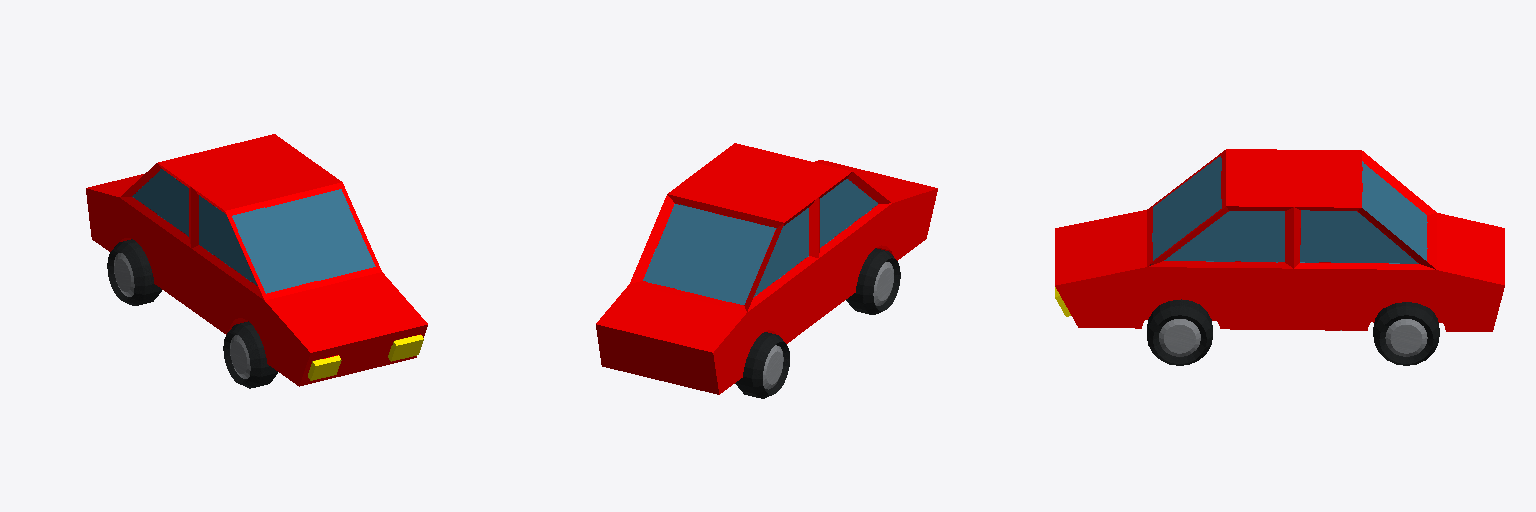
3 renders of one model, left to right at view 1: azimuth 30°, elevation 25°; view 2: azimuth 150°, elevation 25°; view 3: azimuth 270°, elevation 25°, orthographic.
Parts seen in each view (by area): view 1: solidShatter1 shard5, solidShatter1 shard9, solidShatter1 shard11, solidShatter1 shard3, solidShatter1 shard7, solidShatter1 shard1, solidShatter1 shard14, solidShatter1 shard10, solidShatter1 shard4, shard2 solidShatter1; view 2: solidShatter1 shard7, solidShatter1 shard5, solidShatter1 shard11, solidShatter1 shard8, solidShatter1 shard4, solidShatter1 shard3, solidShatter1 shard10, solidShatter1 shard1, solidShatter1 shard14, solidShatter1 shard6, solidShatter1 shard9; view 3: solidShatter1 shard3, shard2 solidShatter1, solidShatter1 shard9, solidShatter1 shard11, solidShatter1 shard4, solidShatter1 shard7, solidShatter1 shard12, solidShatter1 shard13, solidShatter1 shard8, solidShatter1 shard5, solidShatter1 shard6, solidShatter1 shard10.
Part boxes in pixels (x1,y1,x2,y2): solidShatter1 shard5: (167, 181, 367, 386); solidShatter1 shard9: (281, 220, 427, 348); solidShatter1 shard11: (152, 154, 301, 294); solidShatter1 shard3: (260, 134, 375, 257); solidShatter1 shard7: (86, 174, 179, 279); solidShatter1 shard1: (107, 239, 161, 305); solidShatter1 shard14: (223, 321, 277, 388); solidShatter1 shard10: (120, 179, 175, 254); solidShatter1 shard4: (194, 138, 268, 172); shard2 solidShatter1: (359, 343, 420, 371); solidShatter1 shard7: (597, 284, 806, 394); solidShatter1 shard5: (787, 178, 937, 324); solidShatter1 shard11: (739, 159, 879, 242); solidShatter1 shard8: (596, 232, 790, 329); solidShatter1 shard4: (638, 175, 752, 263); solidShatter1 shard3: (656, 143, 801, 220); solidShatter1 shard10: (707, 246, 801, 311); solidShatter1 shard1: (735, 332, 789, 398); solidShatter1 shard14: (846, 248, 900, 314); solidShatter1 shard6: (598, 308, 811, 378); solidShatter1 shard9: (815, 160, 893, 187); solidShatter1 shard3: (1152, 173, 1384, 299); shard2 solidShatter1: (1062, 255, 1468, 331); solidShatter1 shard9: (1055, 187, 1206, 312); solidShatter1 shard11: (1143, 149, 1379, 227); solidShatter1 shard4: (1282, 169, 1419, 264); solidShatter1 shard7: (1418, 212, 1504, 304); solidShatter1 shard12: (1147, 299, 1212, 365); solidShatter1 shard13: (1373, 302, 1439, 365); solidShatter1 shard8: (1369, 160, 1504, 291); solidShatter1 shard5: (1055, 193, 1168, 249); solidShatter1 shard6: (1372, 291, 1499, 331); solidShatter1 shard10: (1393, 180, 1435, 227).
Size of the model in its own units: 4.7 by 4.93 by 12.75.
Materials: 1 (1 with a texture image).